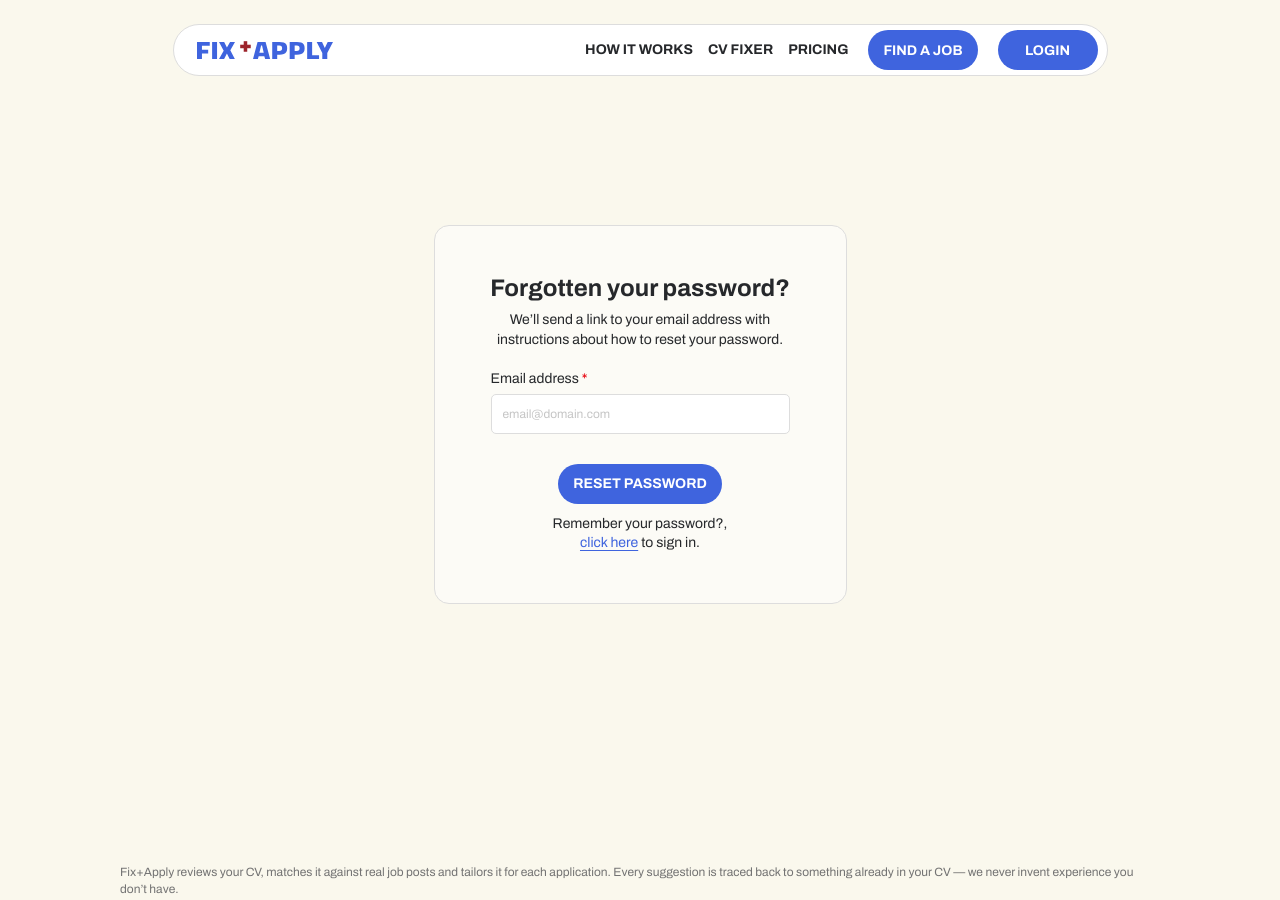
Scenario: ForgotPasswordPage › shows the confirmation without claiming the account exists, and keeps the form to resend
Type "jo@example.com" into the field labelled "Email address *" at (640, 414), box x1=492 y1=395 x2=788 y2=433
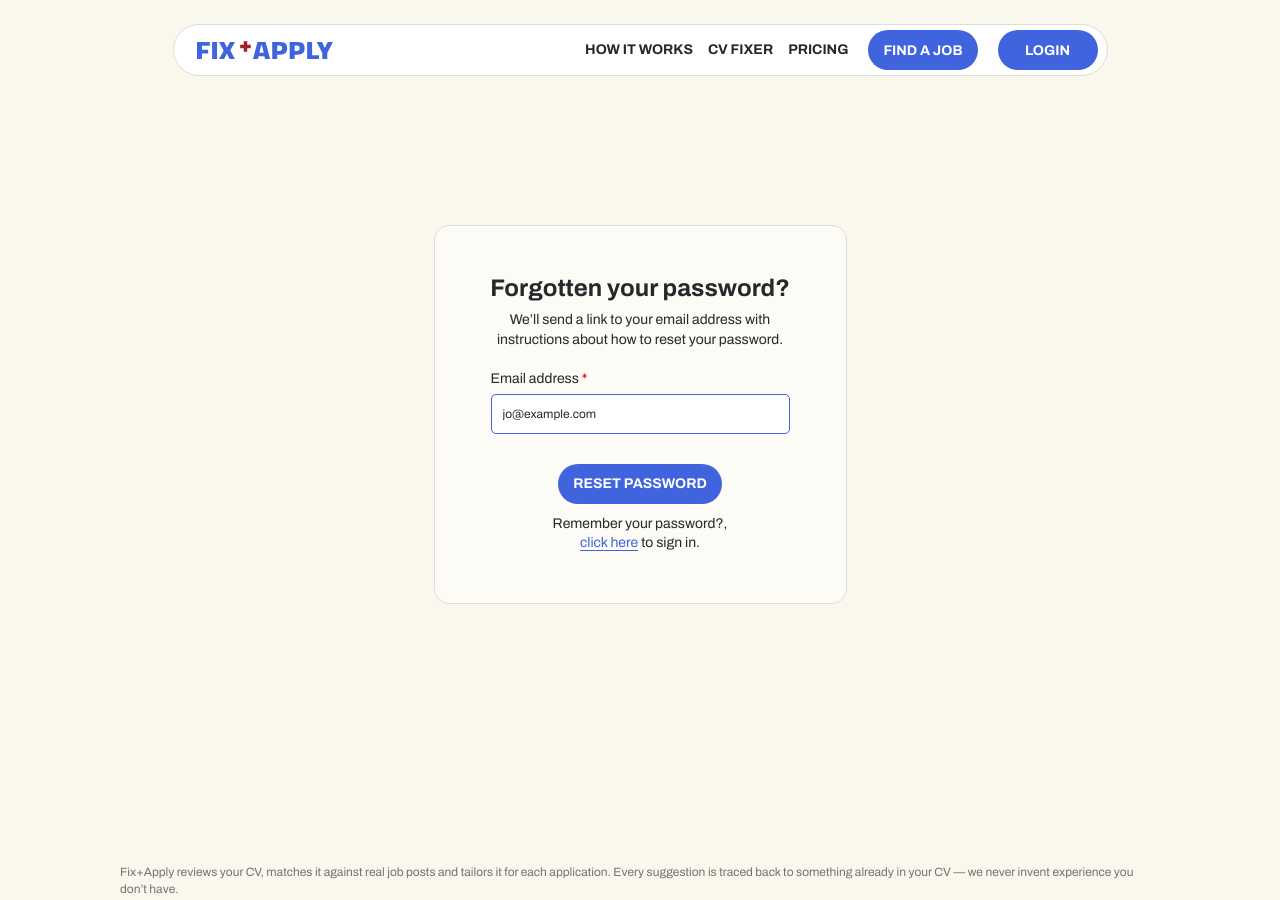
Click the button "Reset password" at (640, 484), box x1=558 y1=464 x2=722 y2=504
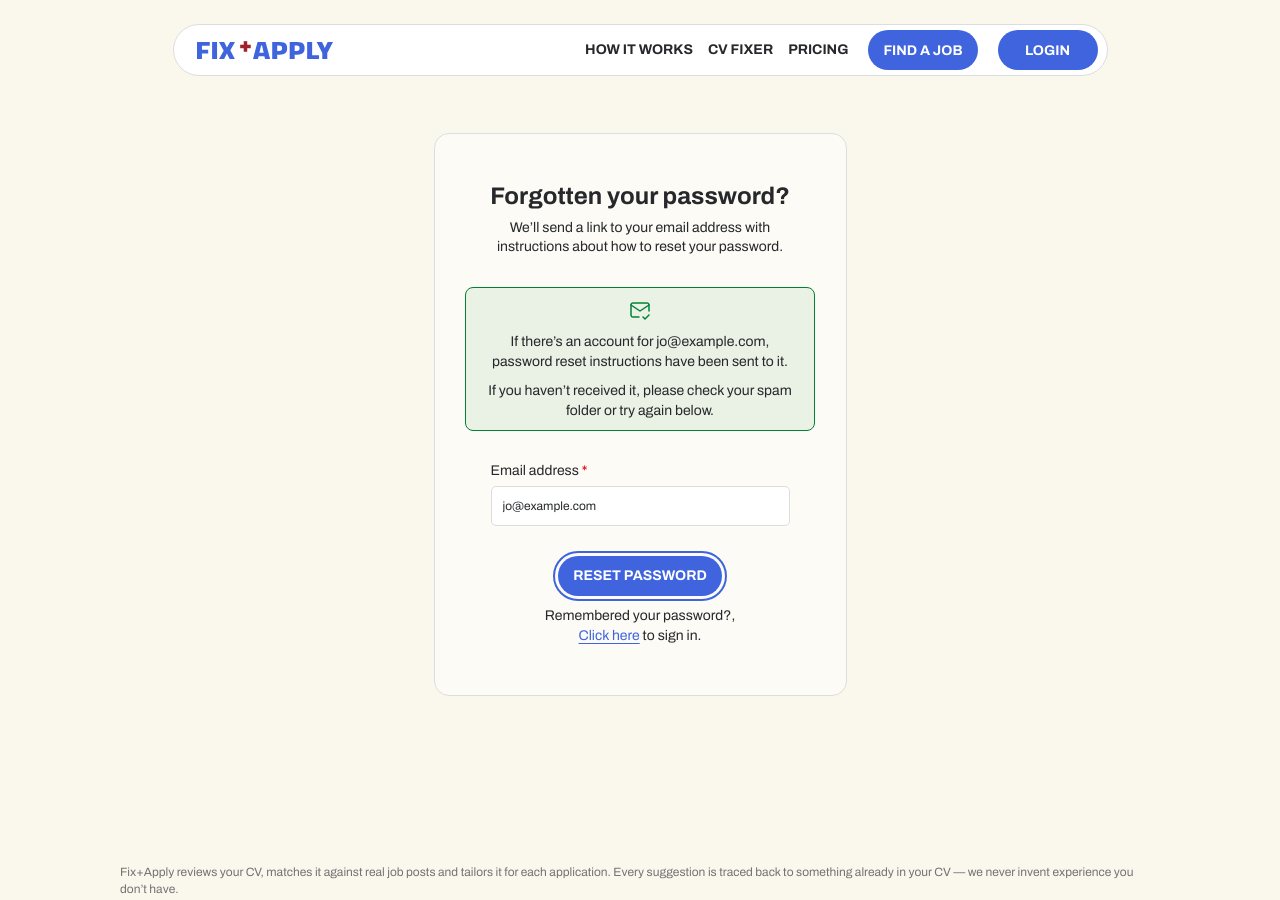
Expected: the button "Reset password" is enabled, x1=558 y1=556 x2=722 y2=596
Result: the message shows "If there’s an account for jo@example.com" at x1=465 y1=287 x2=815 y2=431
Result: the message shows "check your spam folder" at x1=488 y1=383 x2=792 y2=418
